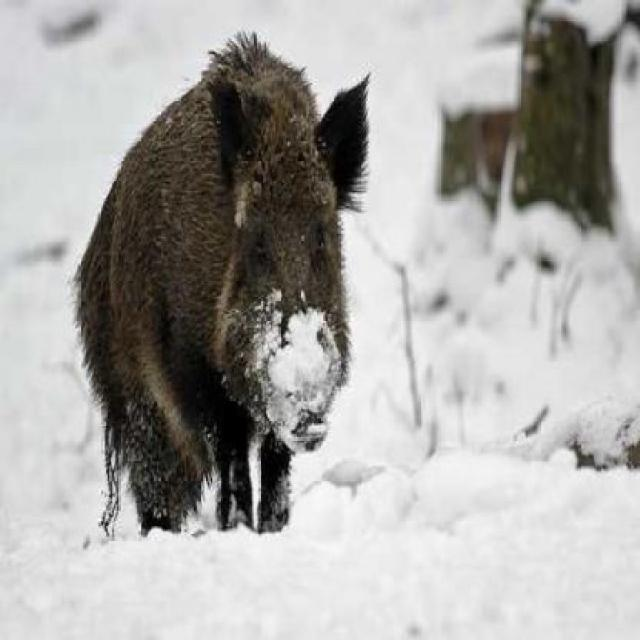pig: (12, 36, 490, 572)
